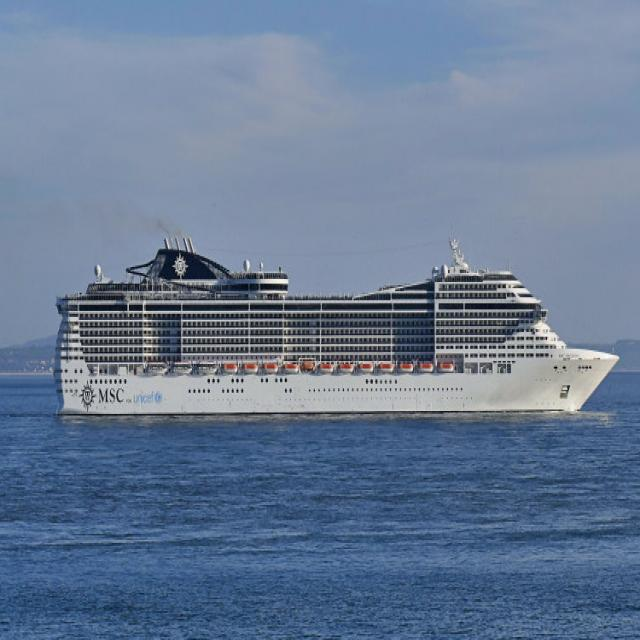cruises: (50, 233, 623, 427)
